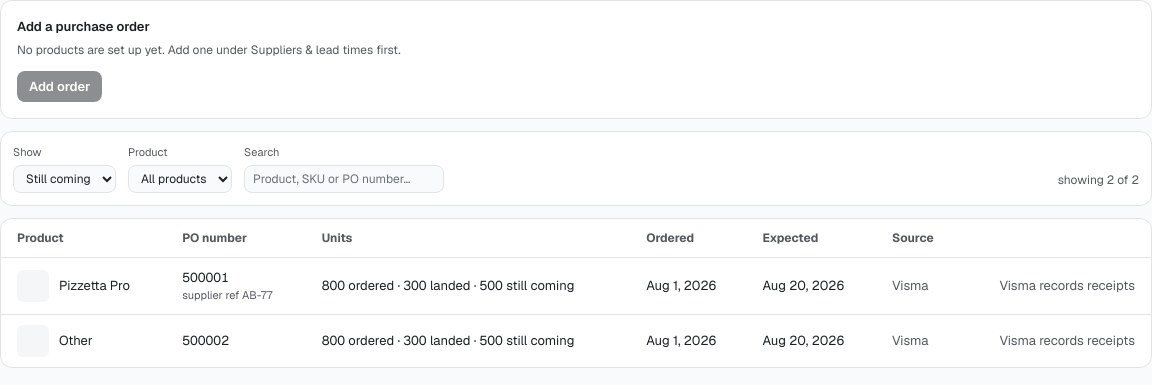
Test: the PO number and the files from Visma › finds an order by its PO number or the supplier ref
The image size is (1152, 385).
Type "500002" into the search field named "Search purchase orders" at (344, 178), box [244,164,444,192]
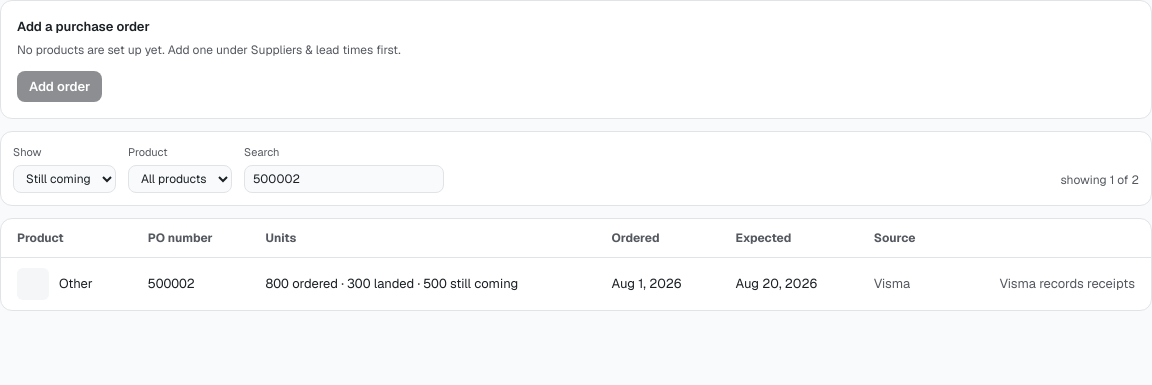
Expected: the text "Other" is shown, [59,274,93,293]
Result: the text "Pizzetta Pro" is gone
Replace the text in the search field named "Search purchase orders" with "ab-77" at (344, 178), box [244,164,444,192]
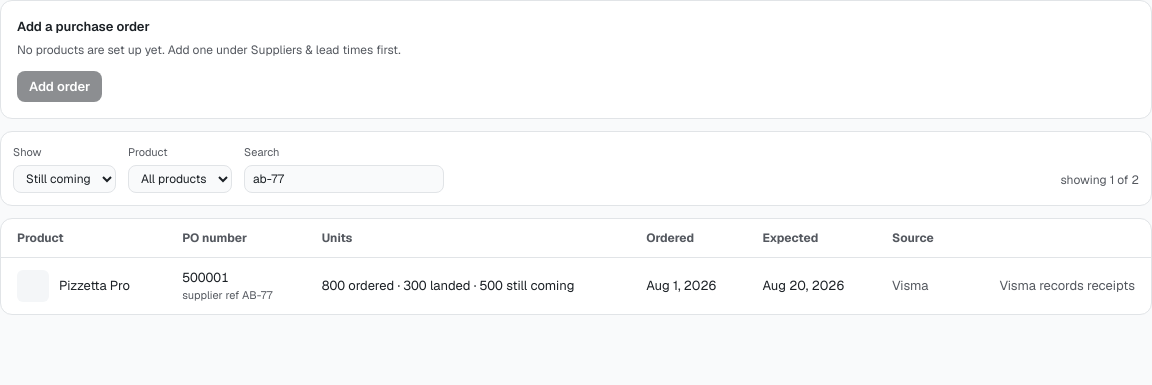
Result: the text "Pizzetta Pro" is shown at [59,276,130,295]
